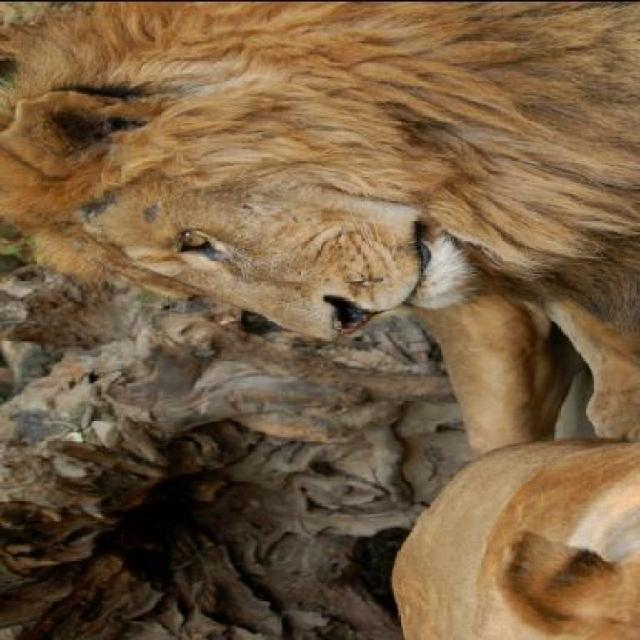Lion: (7, 1, 638, 368)
